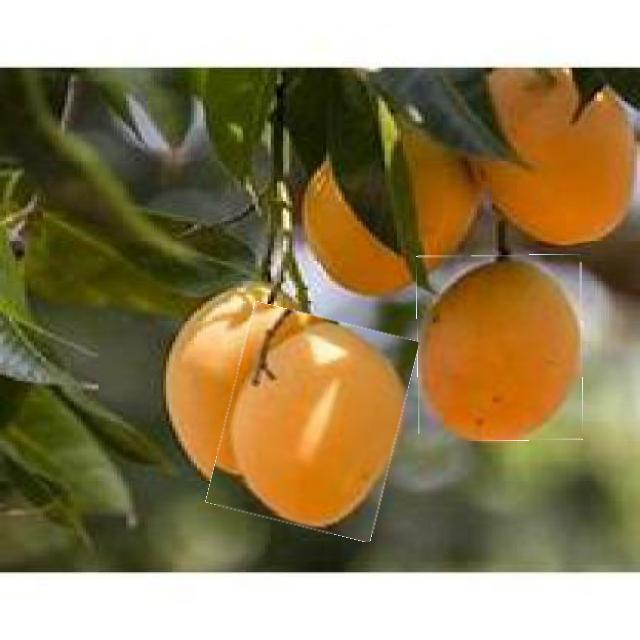mango: (217, 309, 408, 534), (418, 255, 582, 440)
